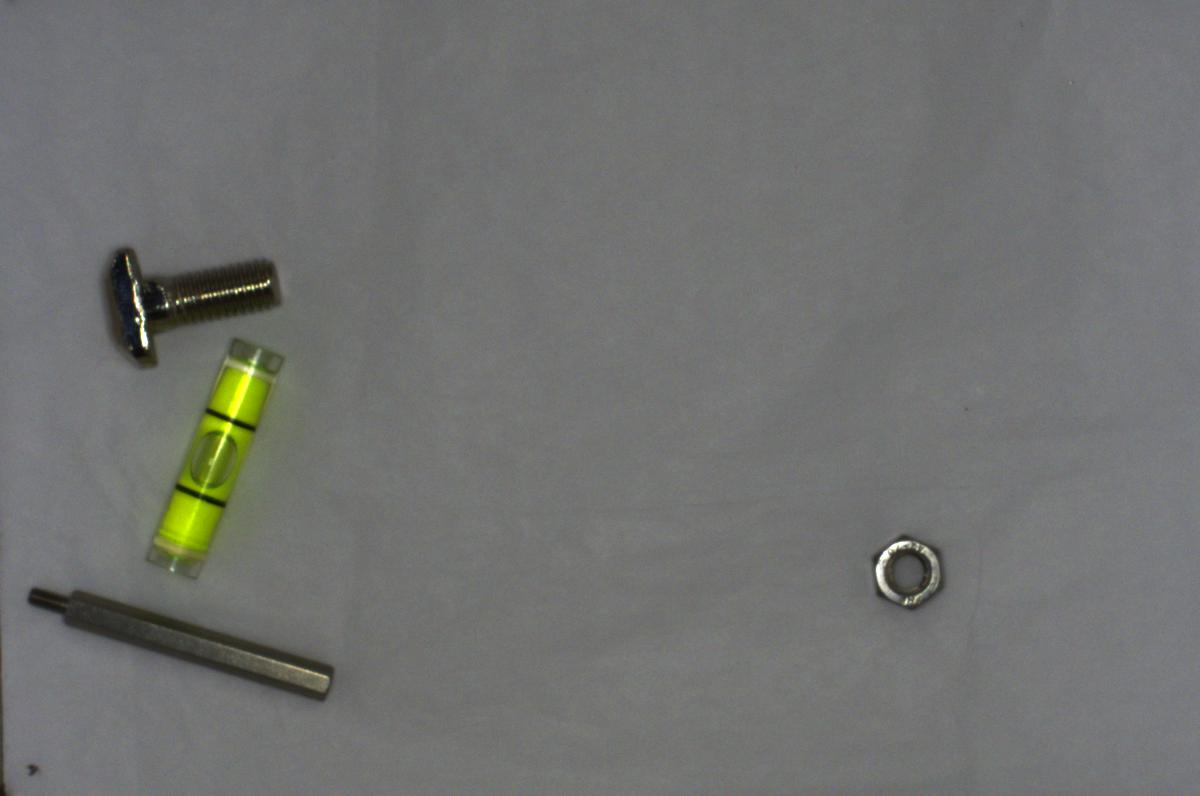Hexagon nut: (862, 529, 953, 616)
Hexagonal steel column: (20, 581, 340, 709)
Horizontal bubble: (147, 333, 281, 573)
T-shaped screw: (88, 236, 292, 359)
